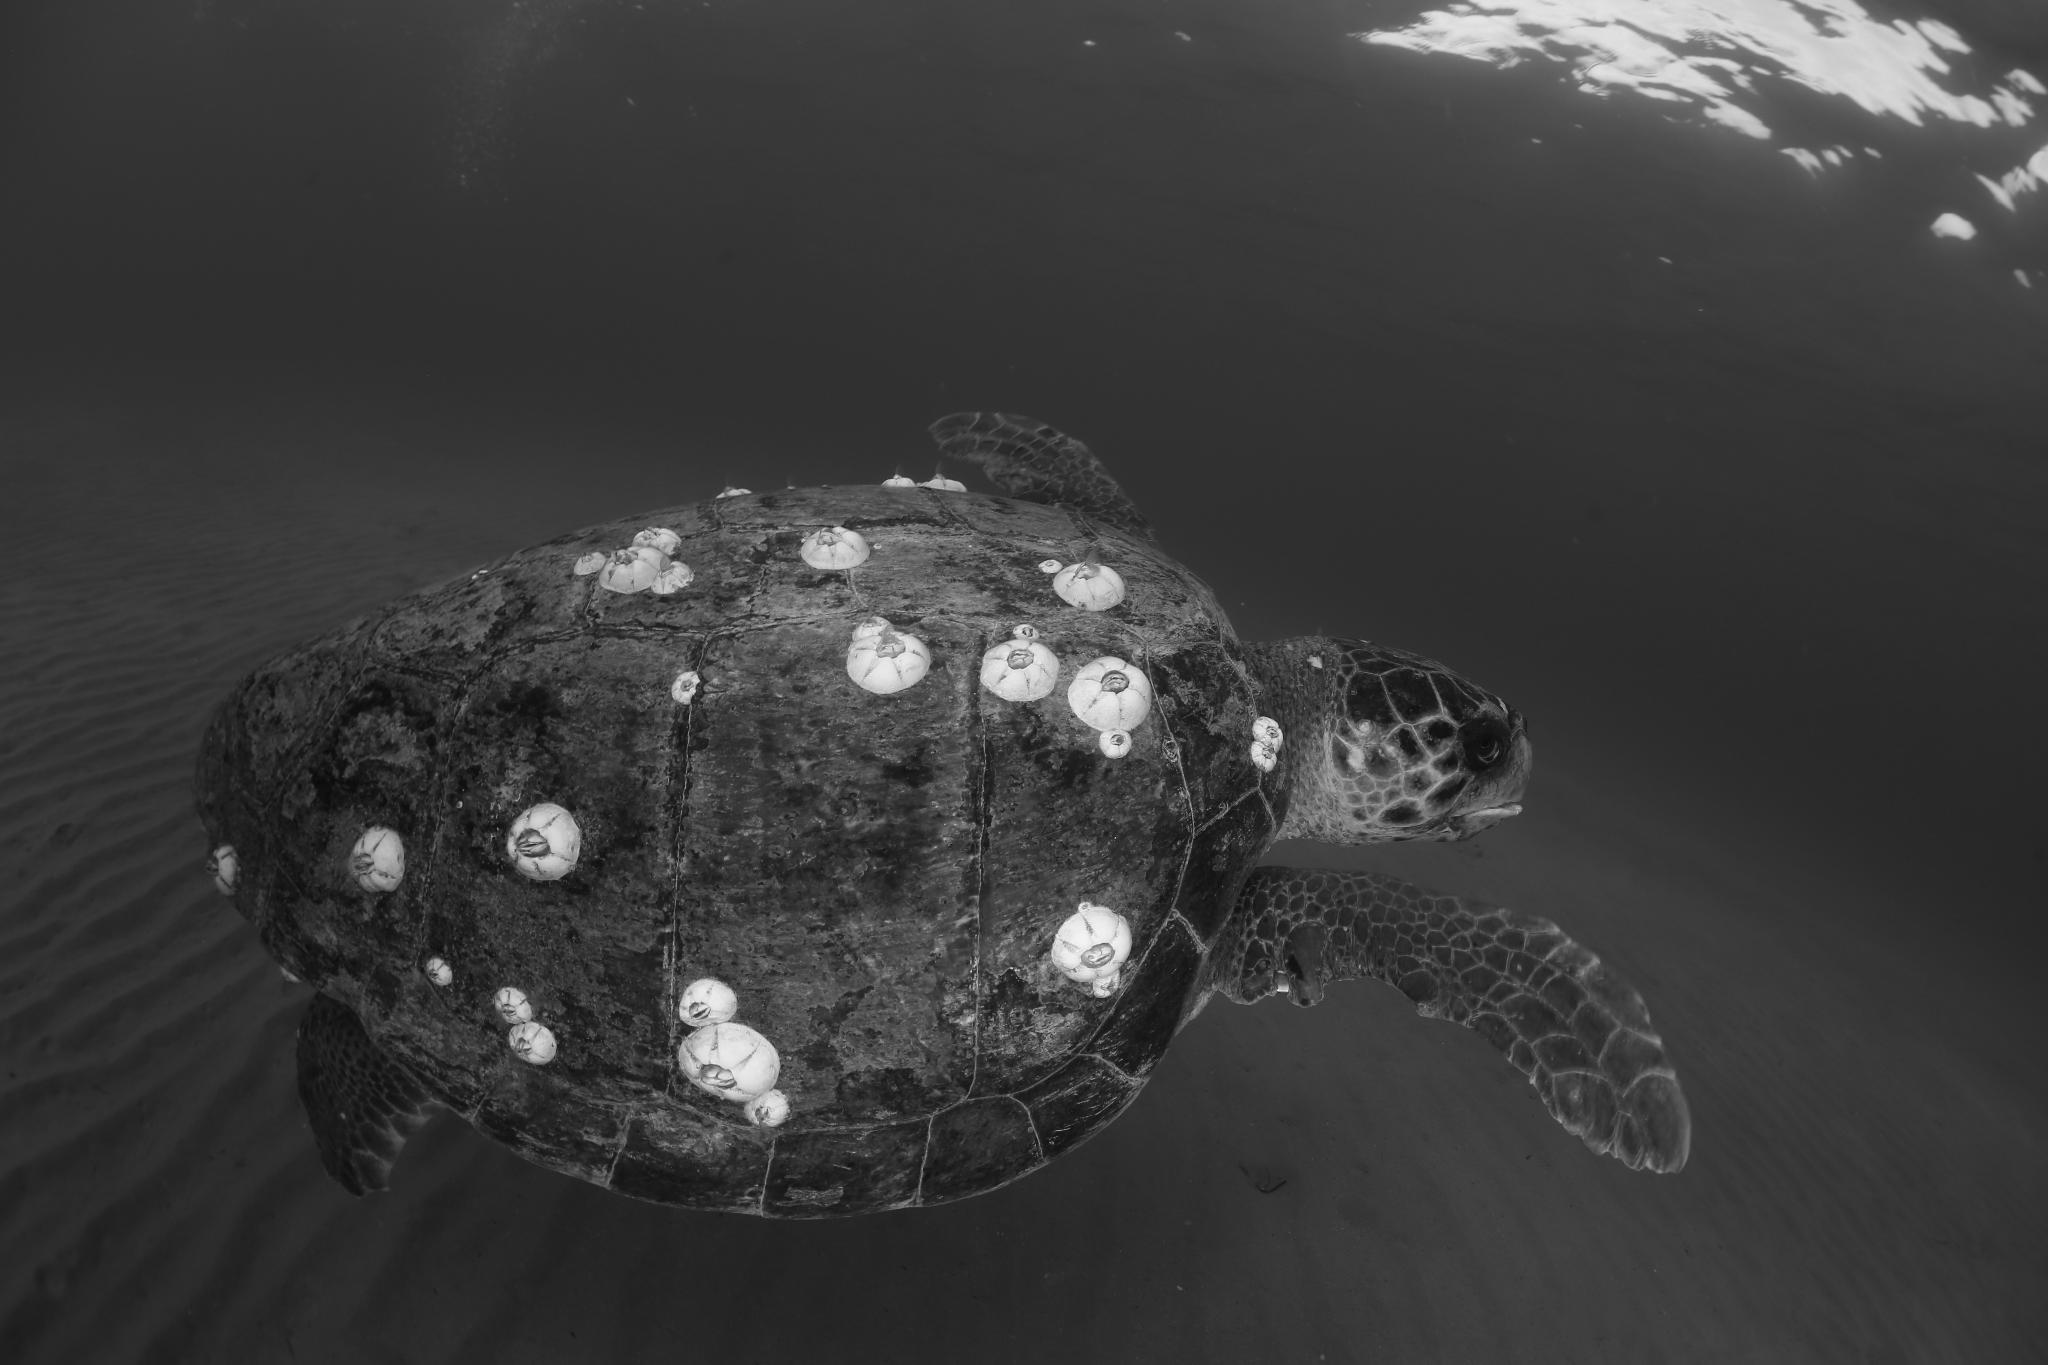Head: (1247, 637, 1531, 845)
